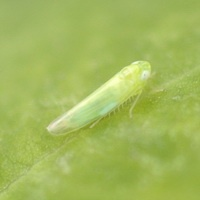insect: (47, 61, 150, 134)
